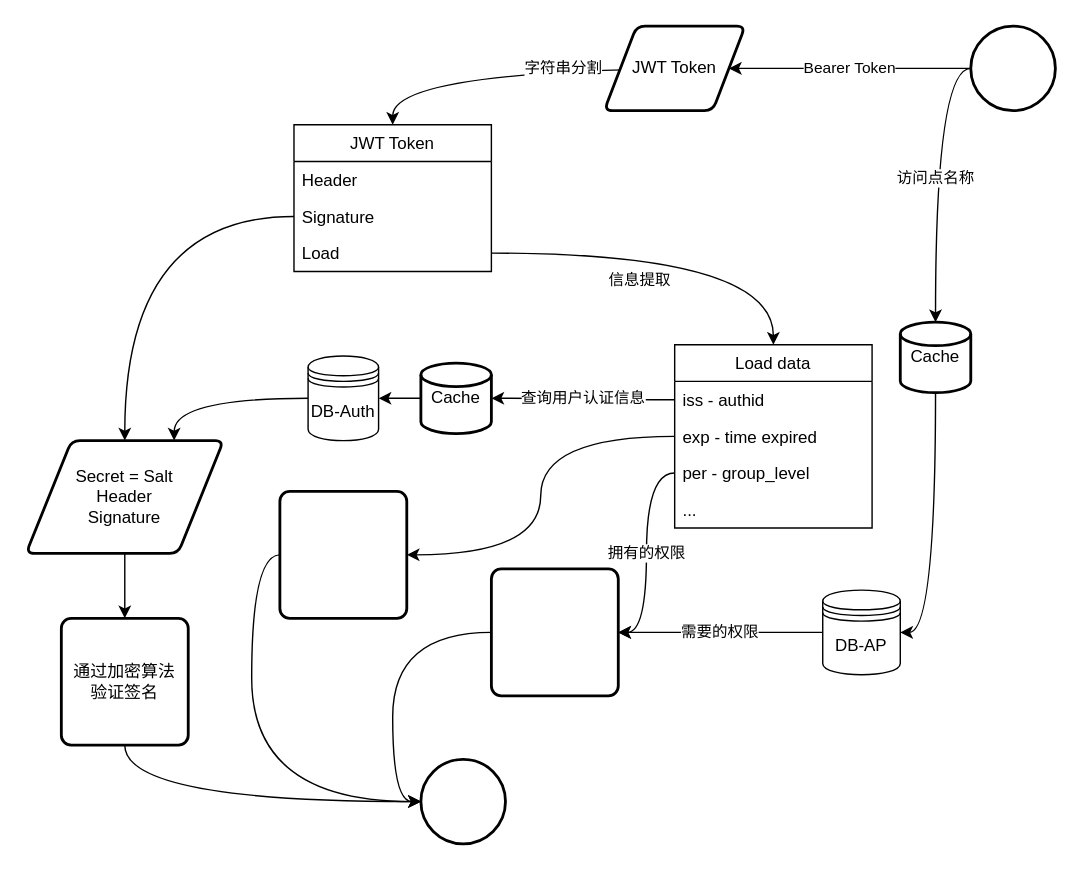
The diagram is 1080 pixels wide and 869 high, and some of its shapes have lost their labels. The centre of each missing label's shape, as x and y in pixels:
"JWT验证" belongs at point (1012, 67).
"判断是否过期" belongs at point (342, 554).
"权限是否足够" belongs at point (554, 632).
"验证结果" belongs at point (462, 801).
